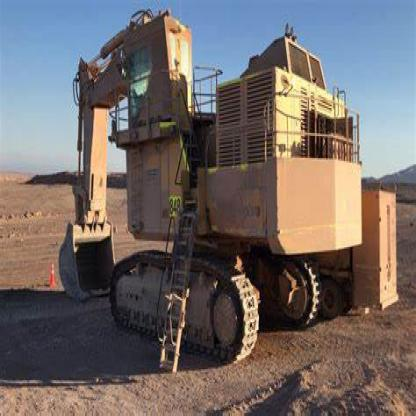excavator: (50, 16, 383, 384)
